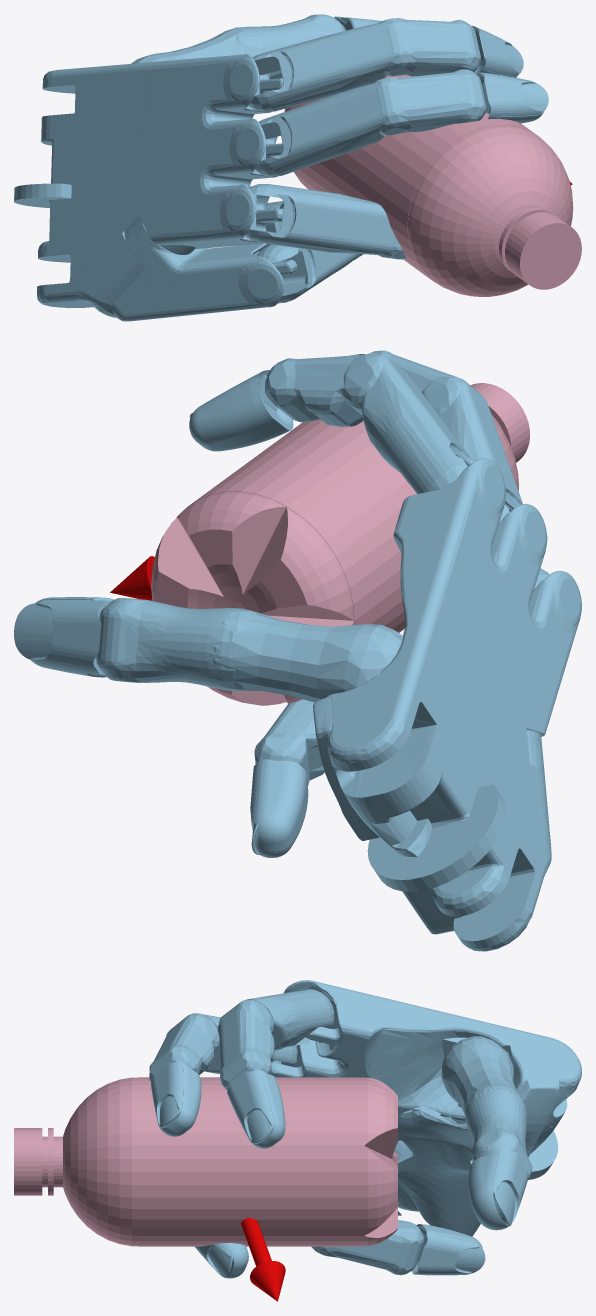
The picture shows the model from 3 angles, top to bottom: view 1: azimuth 30°, elevation 25°; view 2: azimuth 150°, elevation 25°; view 3: azimuth 270°, elevation 25°; orthographic projection. The views are drawn at different scales.
Parts seen in each view (by area): view 1: world, water_bottle.stl; view 2: world, water_bottle.stl; view 3: world, water_bottle.stl.
Part boxes in pixels (box(x1,y1,x2,y2)): world: box(14, 14, 572, 321); water_bottle.stl: box(284, 75, 581, 296); world: box(14, 350, 581, 951); water_bottle.stl: box(151, 383, 529, 705); world: box(149, 980, 581, 1301); water_bottle.stl: box(14, 1077, 397, 1246).
Bounding box in the file's own units: 0.1669 × 0.1235 × 0.202.
